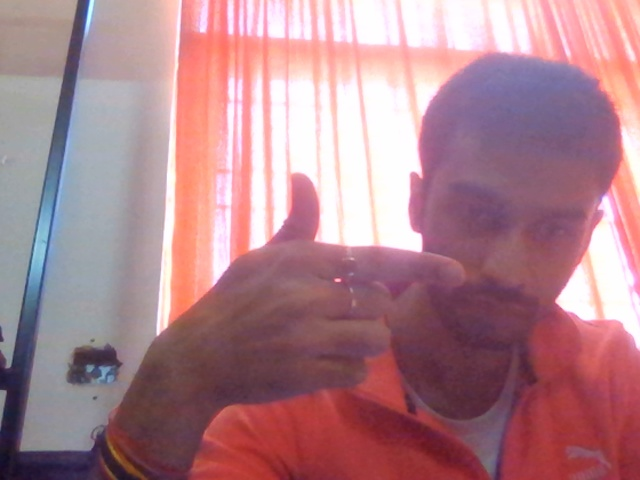G: (116, 147, 478, 440)
